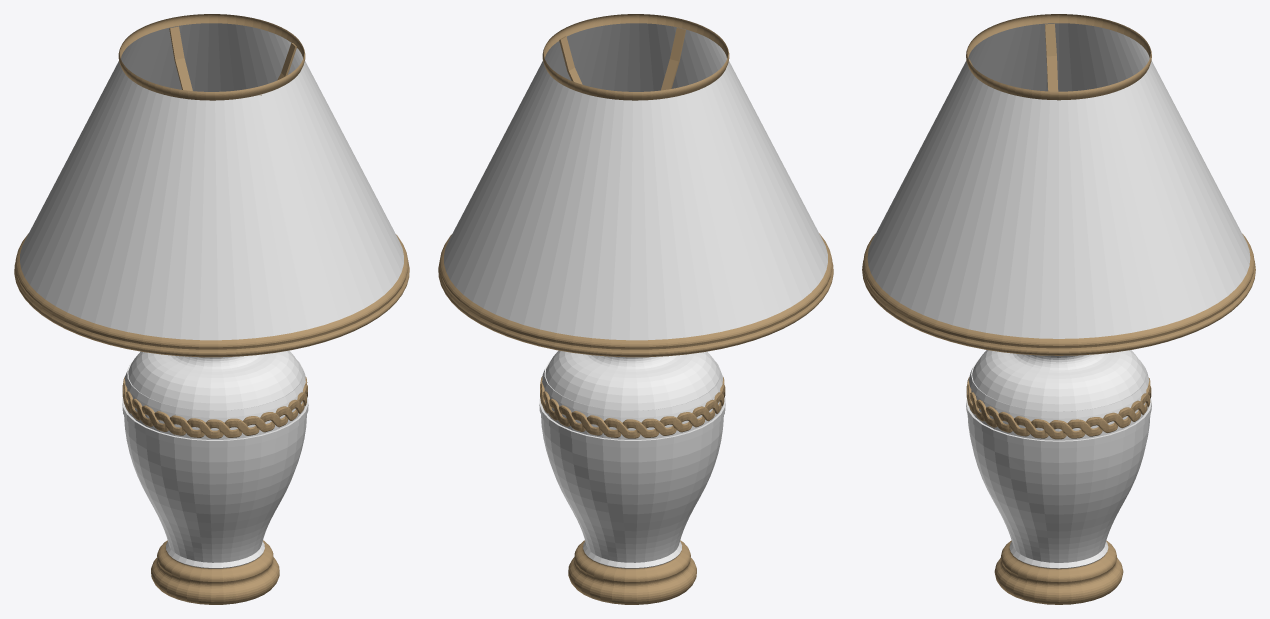
The model's file is Lamp N061121.obj.
3 views of the same model, side by side, from view 1: azimuth 30°, elevation 25°; view 2: azimuth 150°, elevation 25°; view 3: azimuth 270°, elevation 25° (orthographic).
Visible parts, largest first — view 1: Object01, lamp_down, lamp_up, lamp_kosa, lamp_dergateli; view 2: Object01, lamp_down, lamp_up, lamp_kosa, lamp_dergateli; view 3: Object01, lamp_down, lamp_up, lamp_kosa, lamp_dergateli.
Part boxes in pixels (x1=…): Object01: x1=20, y1=23, x2=403, y2=340; lamp_down: x1=122, y1=350, x2=308, y2=604; lamp_up: x1=14, y1=14, x2=409, y2=357; lamp_kosa: x1=122, y1=376, x2=307, y2=438; lamp_dergateli: x1=169, y1=26, x2=296, y2=95; Object01: x1=444, y1=23, x2=827, y2=340; lamp_down: x1=539, y1=350, x2=725, y2=604; lamp_up: x1=438, y1=14, x2=833, y2=357; lamp_kosa: x1=540, y1=376, x2=725, y2=438; lamp_dergateli: x1=559, y1=27, x2=685, y2=90; Object01: x1=867, y1=23, x2=1250, y2=338; lamp_down: x1=966, y1=350, x2=1151, y2=604; lamp_up: x1=862, y1=14, x2=1255, y2=355; lamp_kosa: x1=966, y1=377, x2=1151, y2=439; lamp_dergateli: x1=969, y1=23, x2=1058, y2=91.
Size of the model in its own units: 185 by 273 by 185.
